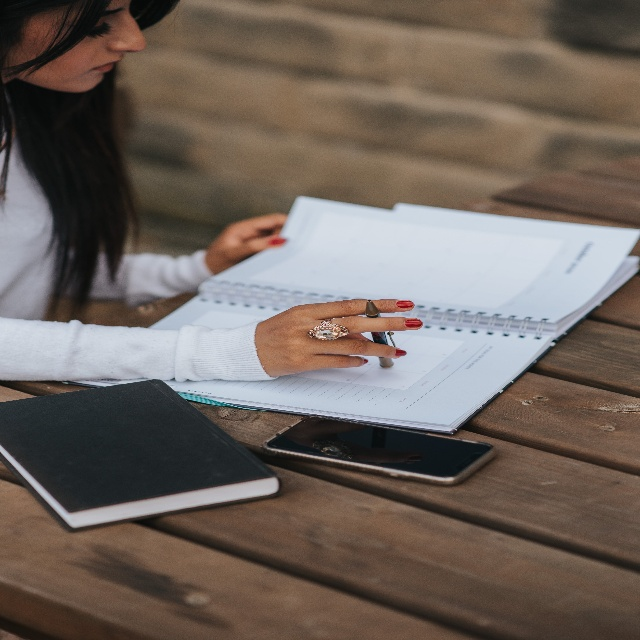Sin_guantes: (255, 299, 424, 378), (206, 213, 289, 275)
